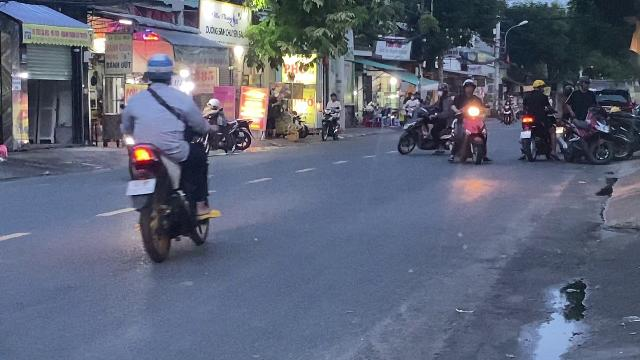helmet: (143, 52, 175, 86)
licenseplate: (126, 177, 156, 195)
motorcyclist: (117, 51, 220, 265)
